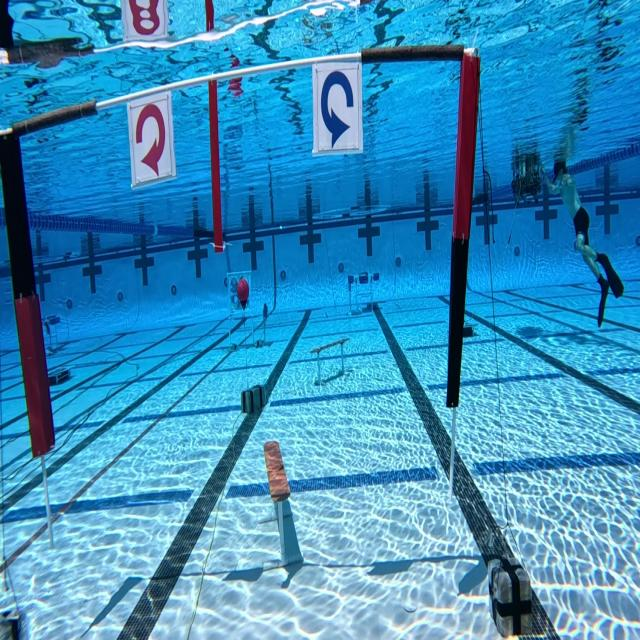blue_side: (310, 54, 364, 158)
red_side: (122, 94, 176, 192)
